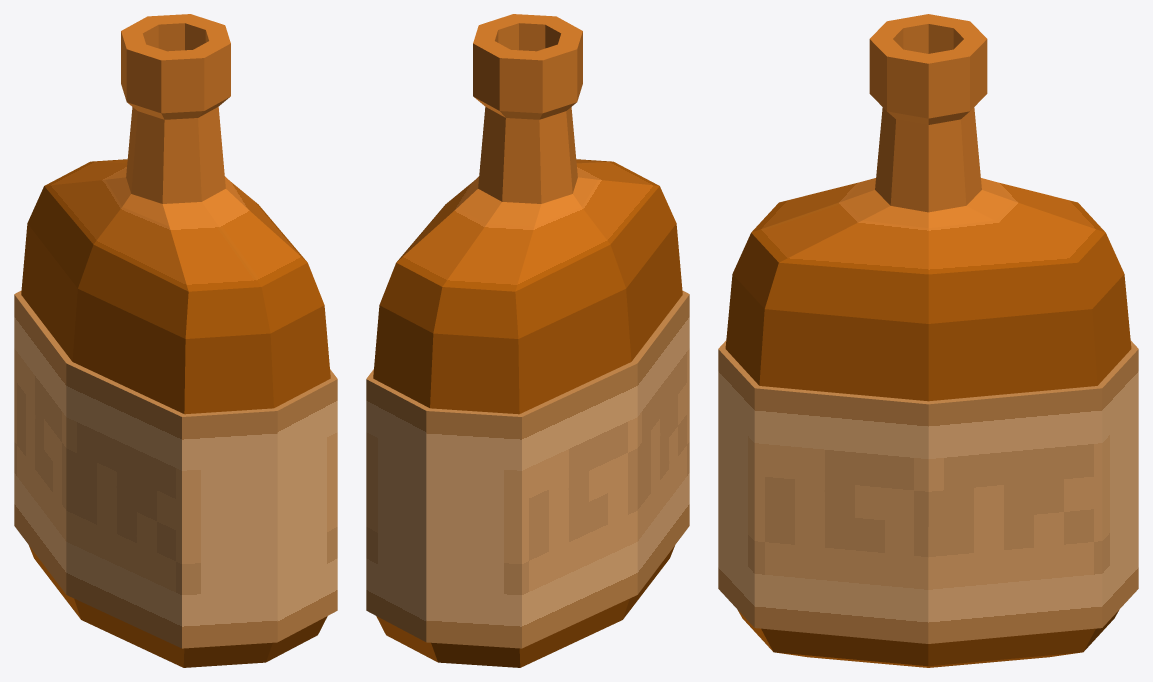
File: whiskey_bottle.glb
3 renders of one model, left to right at view 1: azimuth 30°, elevation 25°; view 2: azimuth 150°, elevation 25°; view 3: azimuth 270°, elevation 25°, orthographic. The views are drawn at different scales.
Visible parts, largest first — view 1: Whiskey_Bottle; view 2: Whiskey_Bottle; view 3: Whiskey_Bottle.
Part boxes in pixels (bbox=[...]): Whiskey_Bottle: bbox=[14, 14, 337, 667]; Whiskey_Bottle: bbox=[366, 14, 689, 667]; Whiskey_Bottle: bbox=[718, 14, 1138, 667].
Bounding box in the file's own units: 0.2827 × 0.704 × 0.4534.
Materials: 1 (1 with a texture image).
